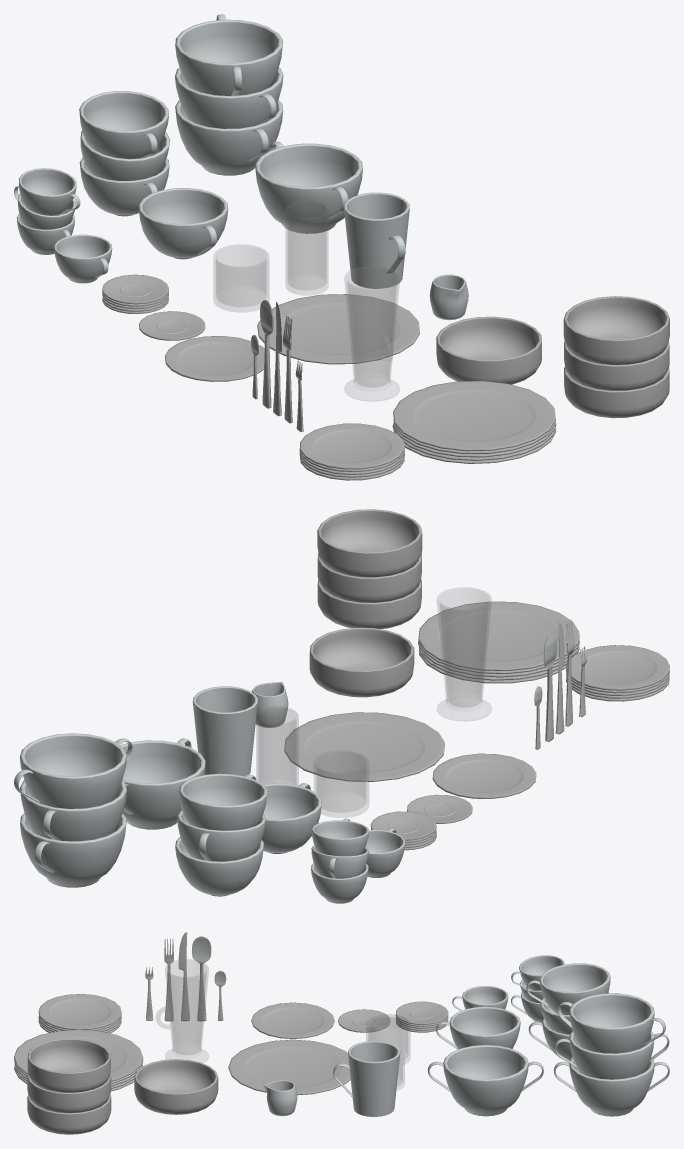
The model's file is SANDEIA_CROCKERY_CUTLERY_MODULAR.fbx.
3 views of the same model, one above another, from view 1: azimuth 30°, elevation 25°; view 2: azimuth 150°, elevation 25°; view 3: azimuth 270°, elevation 25° (orthographic). The views are drawn at different scales.
Visible parts, largest first — view 1: Cup_XL_Stack, Bowl_Stack, Plate_L_Stack, Cup_L_Stack, Plate_L, Cup_XL, Glass_Latte, Bowl, Mug, Cup_L, Plate_S_Stack, Cup_S_Stack (+10 smaller); view 2: Cup_XL_Stack, Bowl_Stack, Plate_L_Stack, Cup_L_Stack, Plate_L, Bowl, Glass_Latte, Cup_XL, Mug, Plate_S_Stack, Cup_S_Stack, Plate_S (+10 smaller); view 3: Cup_XL_Stack, Bowl_Stack, Cup_XL, Plate_L, Bowl, Glass_Latte, Cup_L_Stack, Mug, Plate_S_Stack, Plate_L_Stack, Cup_L, Plate_S (+10 smaller).
Boxes of the visible parts, box(x1,y1,x2,y2) form: Cup_XL_Stack: box(175, 14, 283, 175); Bowl_Stack: box(563, 296, 669, 418); Plate_L_Stack: box(392, 381, 556, 463); Cup_L_Stack: box(79, 91, 169, 216); Plate_L: box(257, 294, 419, 364); Cup_XL: box(255, 141, 362, 233); Glass_Latte: box(344, 266, 399, 401); Bowl: box(436, 316, 541, 384); Mug: box(343, 192, 409, 288); Cup_L: box(138, 188, 228, 259); Plate_S_Stack: box(299, 423, 404, 480); Cup_S_Stack: box(14, 168, 80, 254); Cup_XL_Stack: box(14, 733, 132, 887); Bowl_Stack: box(317, 509, 422, 629); Plate_L_Stack: box(418, 601, 579, 683); Cup_L_Stack: box(175, 773, 267, 896); Plate_L: box(284, 712, 444, 781); Bowl: box(309, 627, 414, 697); Glass_Latte: box(437, 587, 491, 721); Cup_XL: box(120, 738, 205, 829); Mug: box(192, 686, 258, 776); Plate_S_Stack: box(566, 645, 669, 701); Cup_S_Stack: box(311, 818, 369, 903); Plate_S: box(432, 753, 536, 798); Cup_XL_Stack: box(553, 993, 669, 1116); Bowl_Stack: box(27, 1038, 111, 1134); Cup_XL: box(428, 1045, 543, 1116); Plate_L: box(228, 1039, 350, 1095); Bowl: box(134, 1059, 218, 1114); Glass_Latte: box(156, 959, 208, 1062); Cup_L_Stack: box(526, 963, 619, 1060); Mug: box(333, 1041, 400, 1116); Plate_S_Stack: box(38, 994, 121, 1033); Plate_L_Stack: box(14, 1029, 143, 1091); Cup_L: box(436, 1006, 520, 1049); Plate_S: box(251, 1002, 334, 1038).
Size of the model in its own units: 41.88 by 14.38 by 86.24.
Materials: 4 (1 with a texture image).
